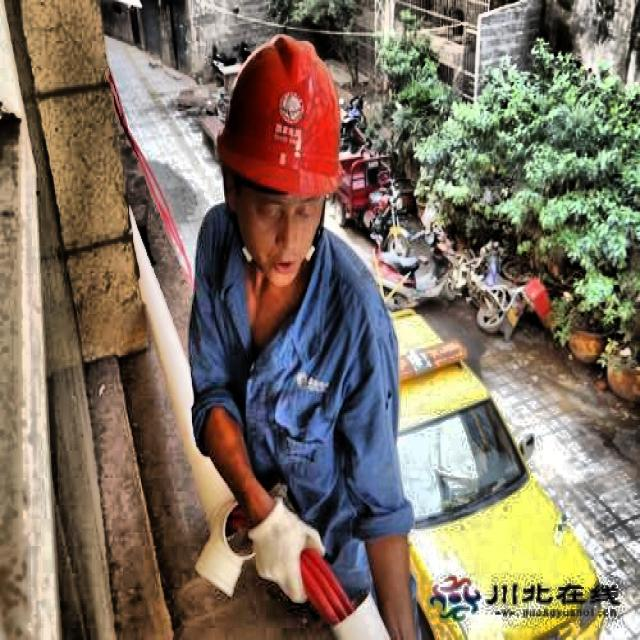helmet: (198, 17, 356, 292)
